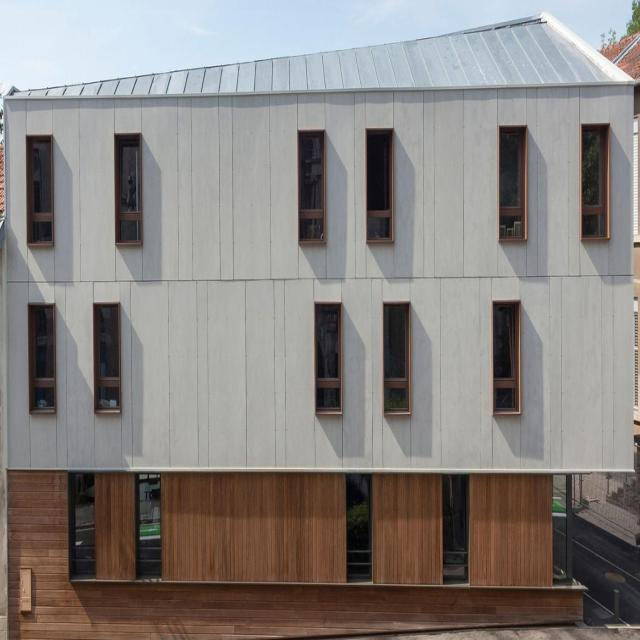wall: (0, 7, 635, 635)
windows: (316, 300, 342, 410), (387, 304, 412, 414), (444, 472, 469, 581), (369, 133, 393, 240), (348, 472, 372, 576), (301, 136, 325, 238), (32, 137, 55, 243), (73, 472, 96, 578), (502, 136, 526, 236), (584, 131, 606, 236), (34, 308, 57, 408), (119, 138, 141, 240), (100, 311, 121, 409), (142, 475, 162, 575), (554, 473, 570, 586), (499, 304, 516, 408)
